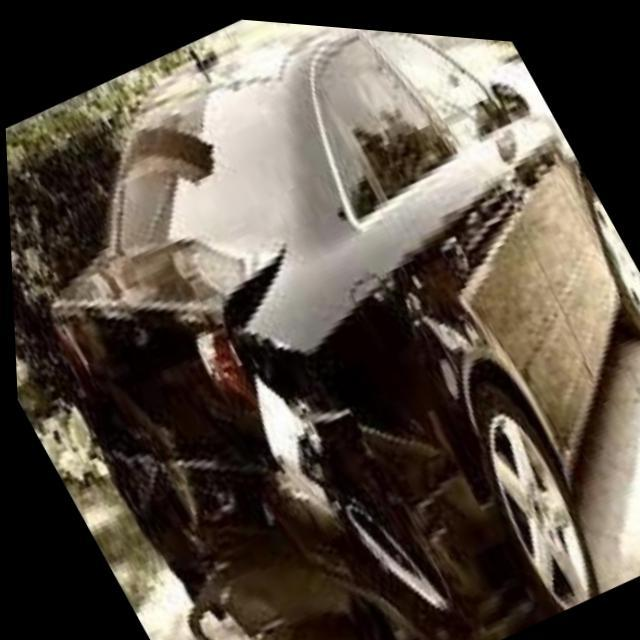crash: (50, 234, 525, 640)
